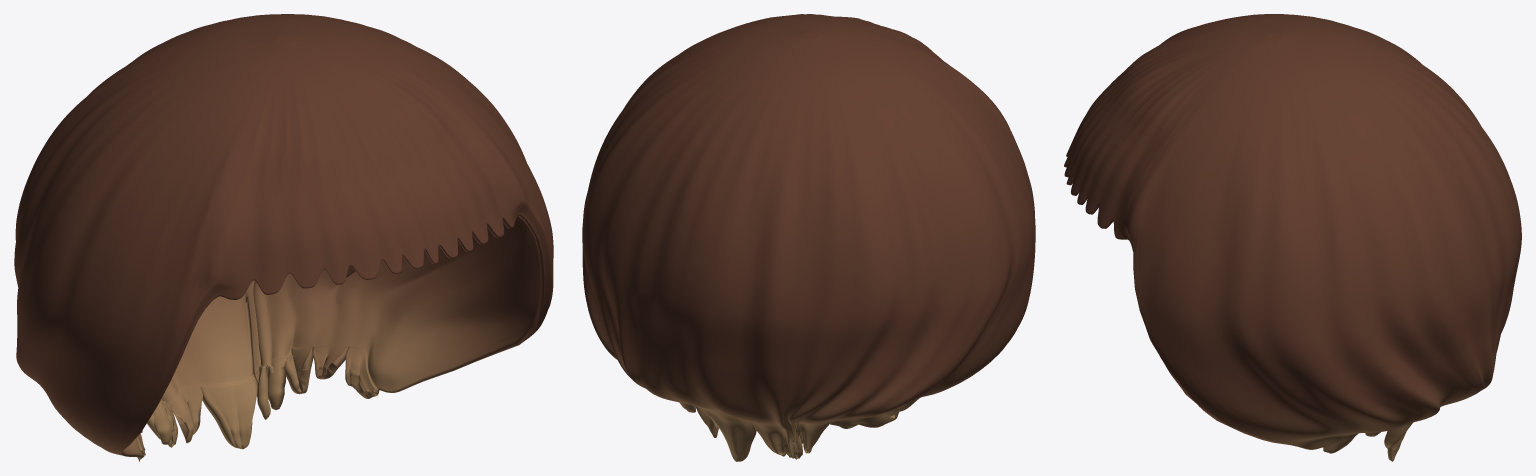
Rendered from long-pashmina-ombre.glb.
The picture shows the model from 3 angles, left to right: view 1: azimuth 30°, elevation 25°; view 2: azimuth 150°, elevation 25°; view 3: azimuth 270°, elevation 25°; orthographic projection. The views are drawn at different scales.
Parts seen in each view (by area): view 1: Hair / rounded long fringe; view 2: Hair / rounded long fringe; view 3: Hair / rounded long fringe.
Boxes of the visible parts, left/top/right/bottom form: Hair / rounded long fringe: left=14, top=14, right=553, bottom=461; Hair / rounded long fringe: left=582, top=14, right=1035, bottom=461; Hair / rounded long fringe: left=1064, top=14, right=1521, bottom=461.
Size of the model in its own units: 0.8406 by 0.778 by 0.7781.
